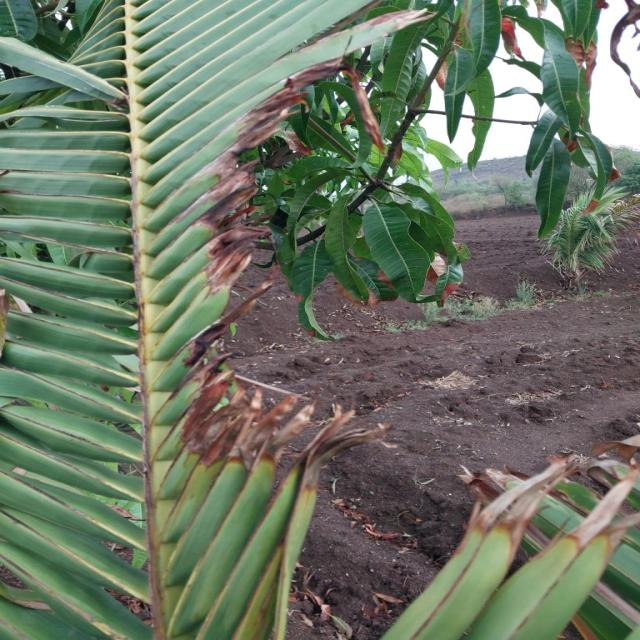leaf rot: (82, 4, 448, 570)
